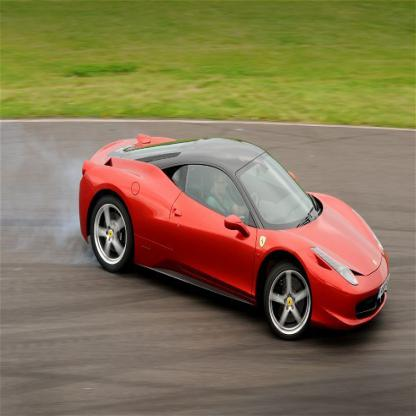Vehicle: (78, 133, 392, 344)
